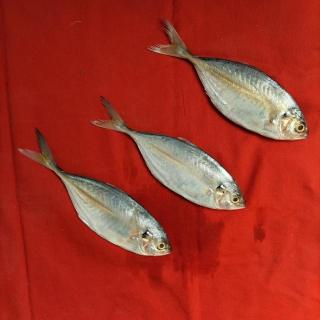Ikan: (146, 15, 314, 144), (16, 124, 176, 259), (89, 94, 251, 215)
